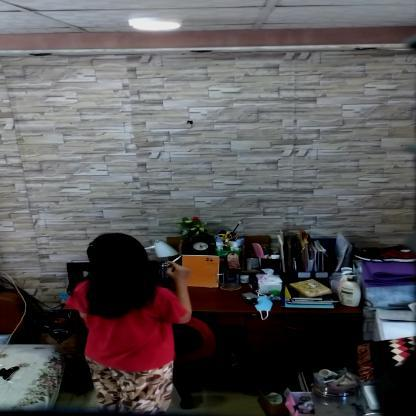cigarette: (172, 256, 182, 262)
person: (71, 232, 192, 415)
